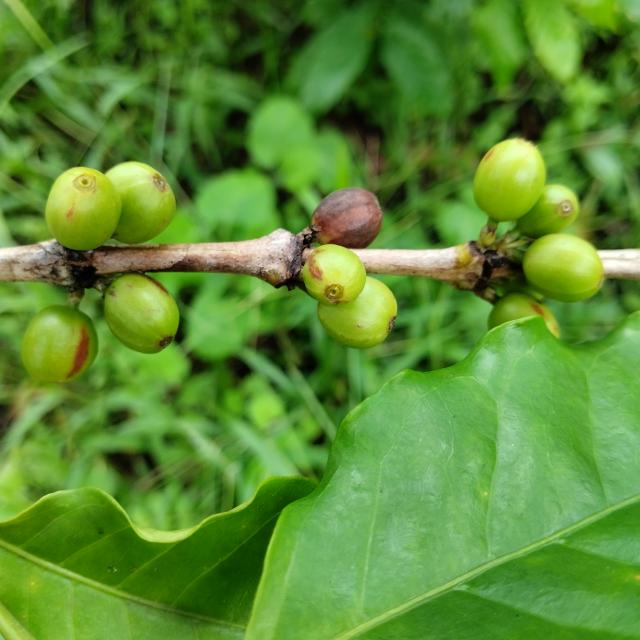green: (45, 167, 121, 250), (104, 273, 179, 354), (474, 138, 546, 222), (20, 305, 97, 382), (318, 276, 398, 349), (105, 161, 175, 244), (523, 233, 605, 302), (302, 244, 366, 306), (518, 184, 580, 238), (489, 292, 560, 338)
red: (312, 187, 383, 248)
